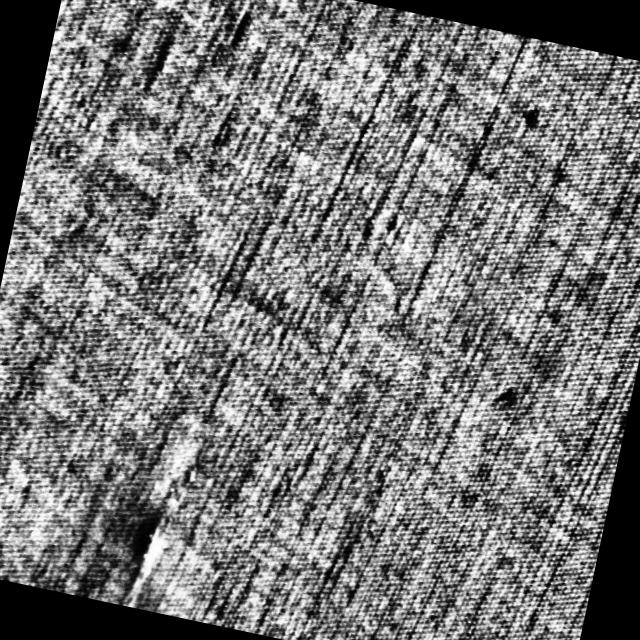gray stitch: (116, 487, 184, 608)
